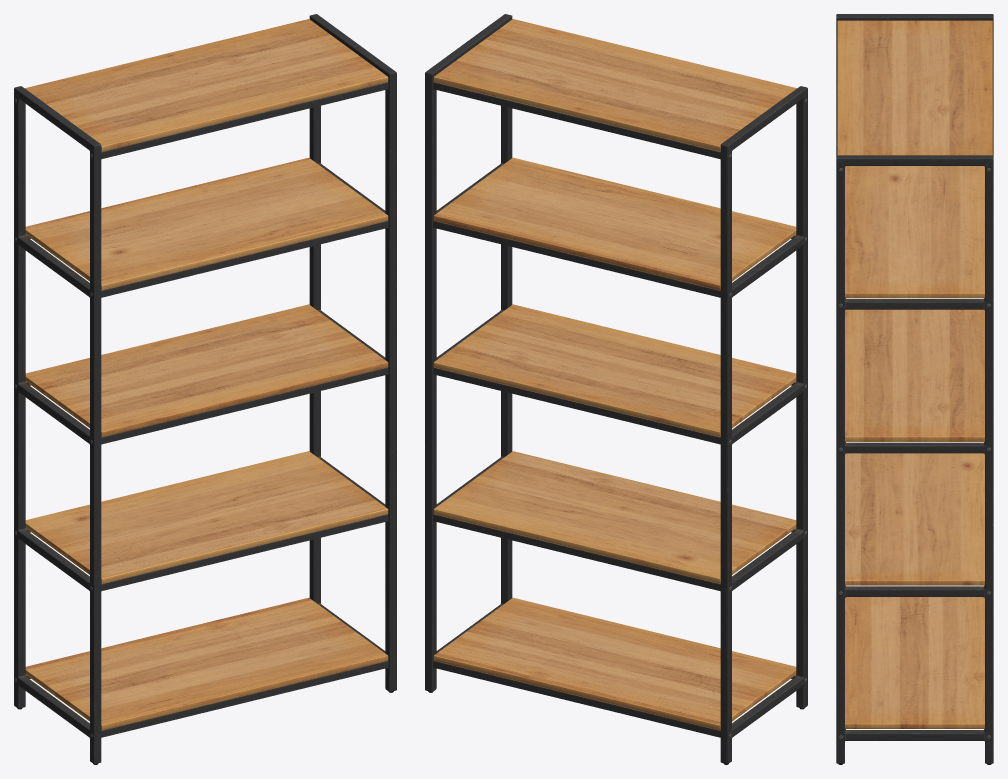
Rendered from SM_RetailShelves01.fbx.
3 views of the same model, side by side, from view 1: azimuth 30°, elevation 25°; view 2: azimuth 150°, elevation 25°; view 3: azimuth 270°, elevation 25° (orthographic). The views are drawn at different scales.
Visible parts, largest first — view 1: SM_RetailShelves01; view 2: SM_RetailShelves01; view 3: SM_RetailShelves01.
Part boxes in pixels (box(x1,y1,x2,y2)): SM_RetailShelves01: box(14, 14, 396, 764); SM_RetailShelves01: box(425, 14, 807, 764); SM_RetailShelves01: box(836, 14, 993, 764).
Size of the model in its own units: 110 by 50.21 by 214.
